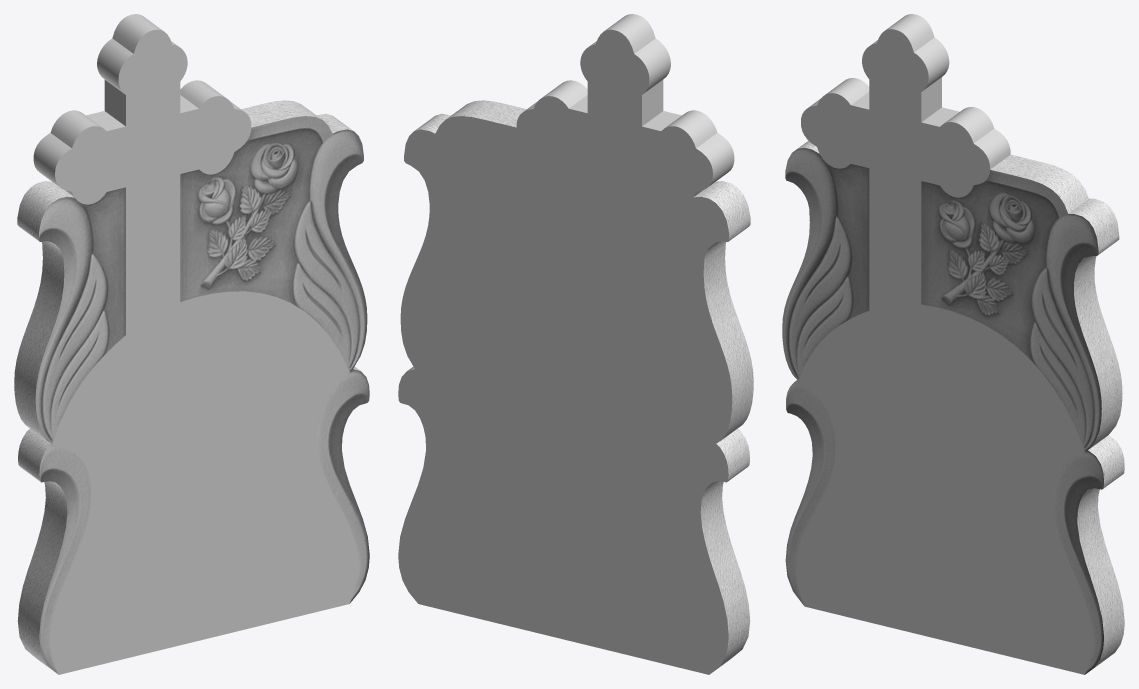
Rendered from cnaf49d53a0a_tkf.glb.
3 views of the same model, side by side, from view 1: azimuth 30°, elevation 25°; view 2: azimuth 150°, elevation 25°; view 3: azimuth 330°, elevation 25° (orthographic). The views are drawn at different scales.
Parts seen in each view (by area): view 1: Pam-d02-090, Pam-d02-090_2_notexture; view 2: Pam-d02-090, Pam-d02-090_2_notexture; view 3: Pam-d02-090, Pam-d02-090_2_notexture.
Boxes of the visible parts, x1,y1,x2,y2 form: Pam-d02-090: [33, 14, 358, 674]; Pam-d02-090_2_notexture: [14, 100, 369, 674]; Pam-d02-090: [398, 14, 734, 674]; Pam-d02-090_2_notexture: [407, 100, 753, 673]; Pam-d02-090: [796, 14, 1093, 674]; Pam-d02-090_2_notexture: [782, 140, 1124, 674].
Size of the model in its own units: 0.45 by 0.8 by 0.05.
1 material, 1 textured.
